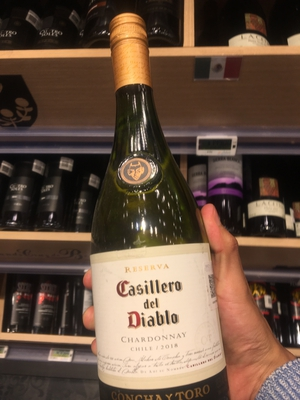casillero del diablo chardonnay: (82, 9, 245, 400)
